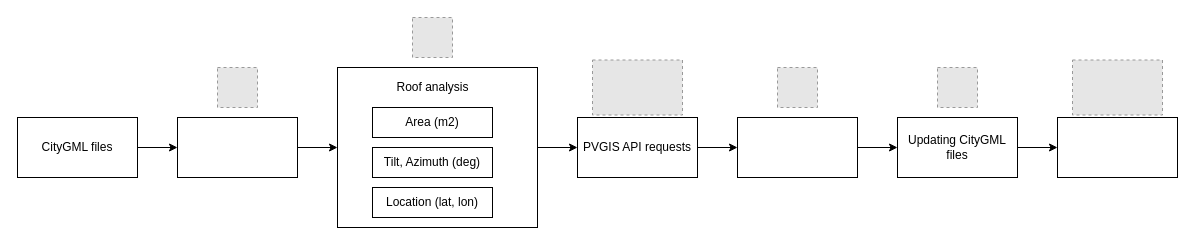
This 1195x245 diagram has some shape labels left out. Grey dashed boxes stand in for pictures. The shapes that lost their labels are listed below. From the top down, each one's centre as x and y in pixels, then its label:
(237,147): Roof extraction
(797,147): Monthly/Yearly solar power ouput aggregation (kWh)
(1117,147): Converting to 3D tiles
